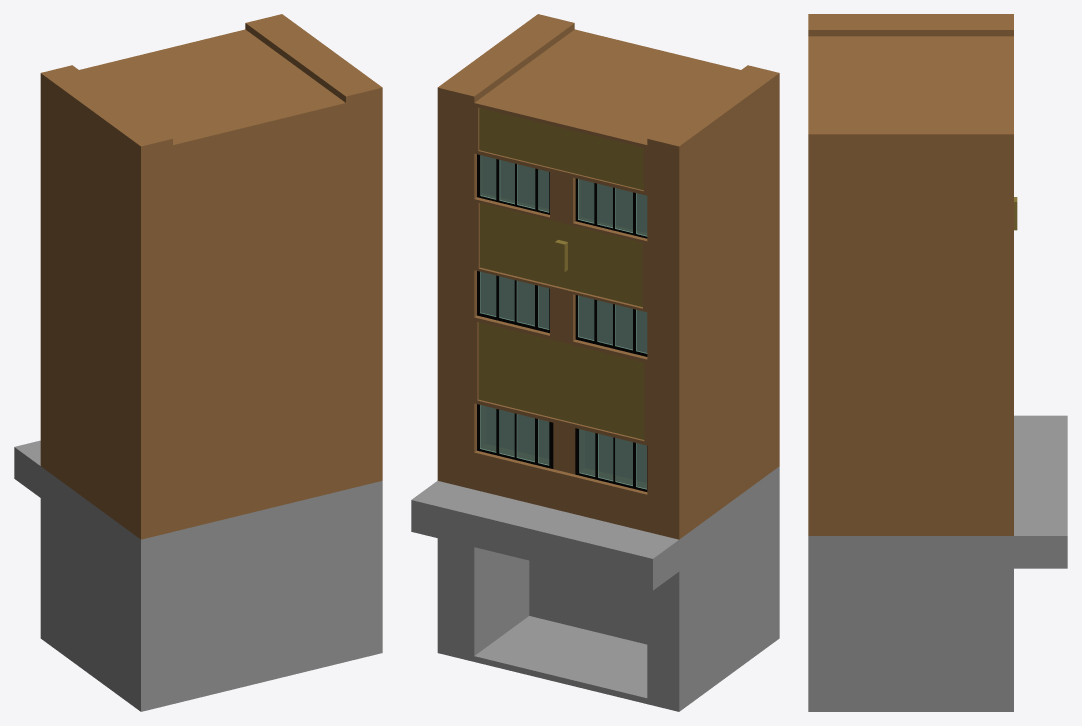
File: Edificio_04.fbx
The picture shows the model from 3 angles, left to right: view 1: azimuth 30°, elevation 25°; view 2: azimuth 150°, elevation 25°; view 3: azimuth 270°, elevation 25°; orthographic projection. The views are drawn at different scales.
Visible parts, largest first — view 1: pCube3; view 2: pCube3, pPlane1, pPlane6, pPlane8, pPlane7, pPlane10, pPlane9; view 3: pCube3.
Boxes of the visible parts, x1,y1,x2,y2 form: pCube3: (14,14,382,711); pCube3: (411,14,779,711); pPlane1: (477,404,553,468); pPlane6: (575,428,647,491); pPlane8: (575,295,647,356); pPlane7: (477,271,549,333); pPlane10: (477,154,549,214); pPlane9: (575,178,647,238); pCube3: (808,14,1067,711).
Bounding box in the file's own units: 15.8 × 35.32 × 14.36.
